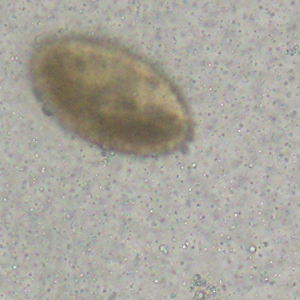Fasciola_hepatica_egg: (27, 32, 192, 157)
